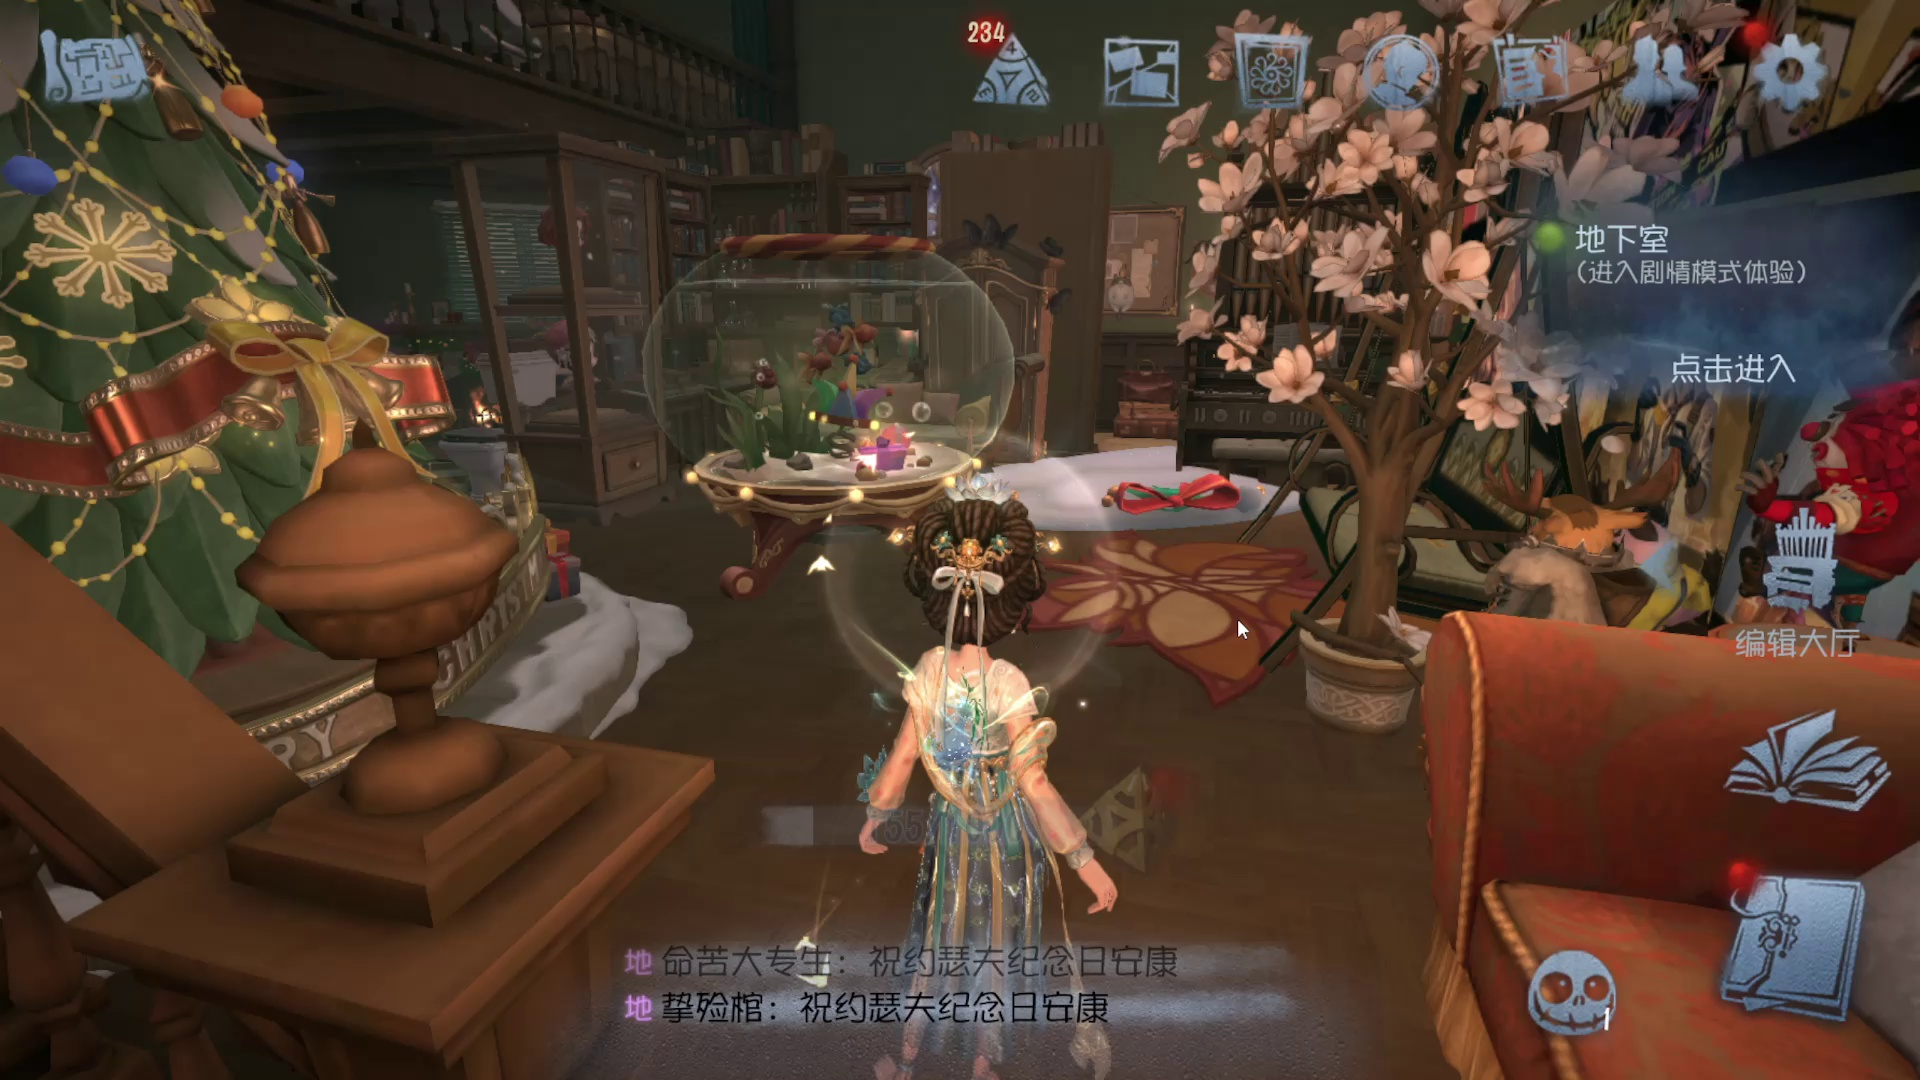大厅: (1698, 691, 1898, 828)
